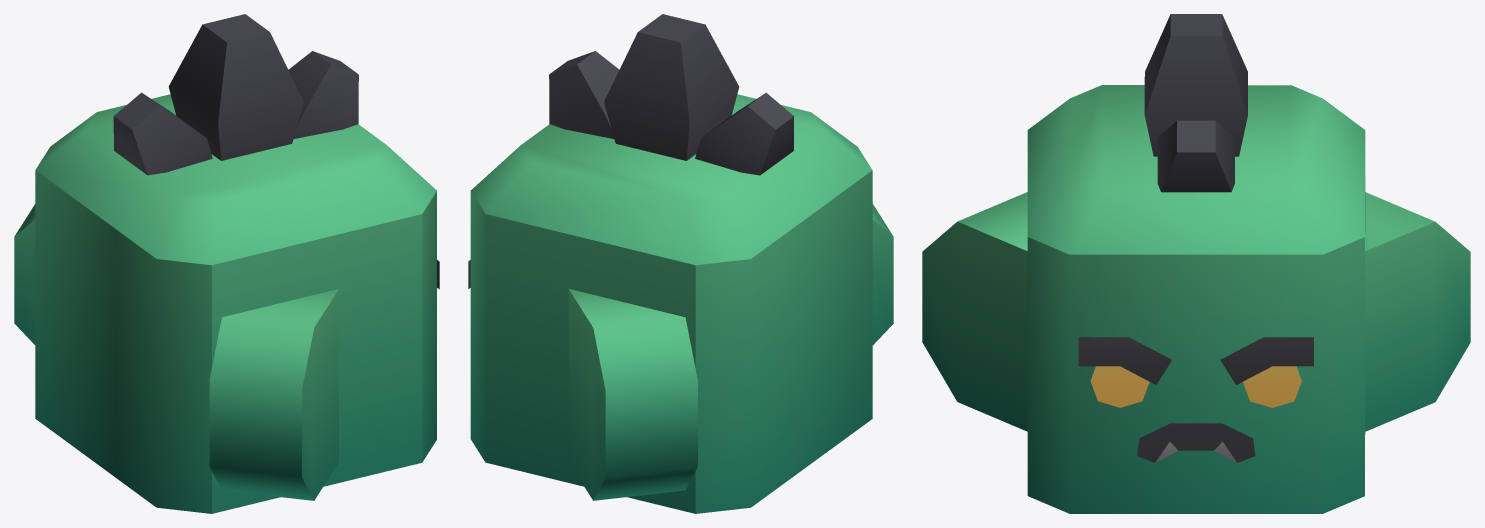
Rendered from head-mesh.004_lev5.glb.
3 renders of one model, left to right at view 1: azimuth 30°, elevation 25°; view 2: azimuth 150°, elevation 25°; view 3: azimuth 270°, elevation 25°, orthographic. The views are drawn at different scales.
Parts seen in each view (by area): view 1: head-mesh.004_lev5; view 2: head-mesh.004_lev5; view 3: head-mesh.004_lev5.
Boxes of the visible parts, <box> form: head-mesh.004_lev5: <box>14,14,439,513</box>; head-mesh.004_lev5: <box>468,14,893,513</box>; head-mesh.004_lev5: <box>922,14,1470,513</box>.
Size of the model in its own units: 1.33 by 1.75 by 2.08.
1 material, 1 textured.
